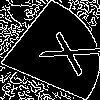X: (25, 25, 100, 77)
